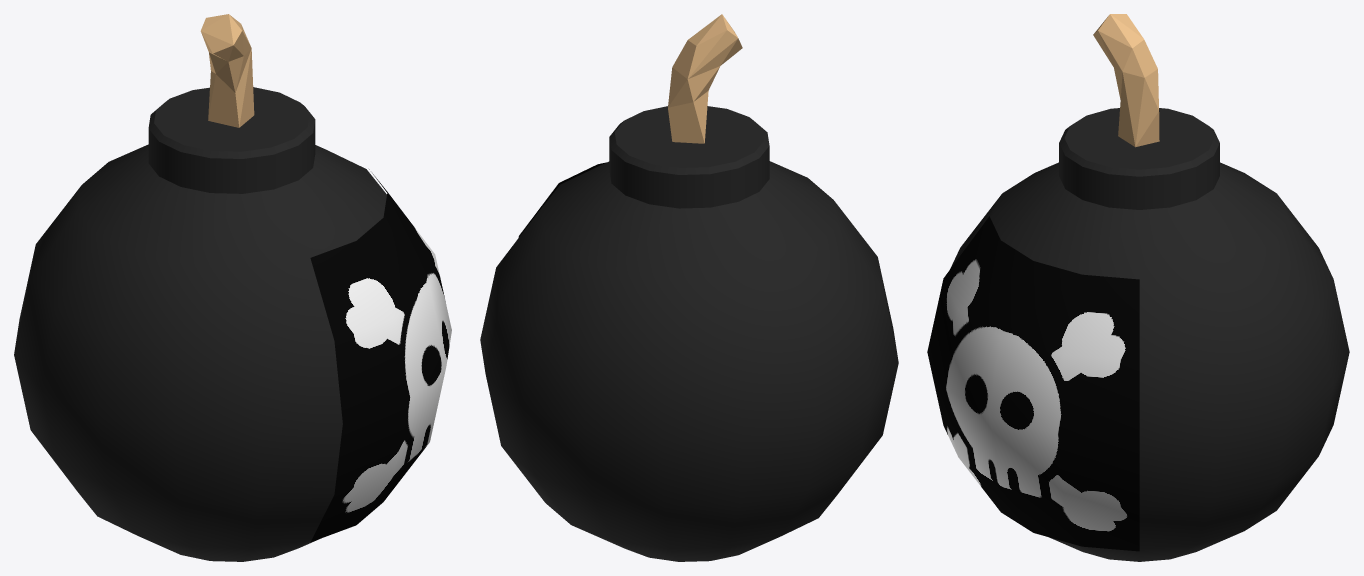
File: bomb_2.fbx
The picture shows the model from 3 angles, left to right: view 1: azimuth 30°, elevation 25°; view 2: azimuth 150°, elevation 25°; view 3: azimuth 270°, elevation 25°; orthographic projection. The views are drawn at different scales.
Parts seen in each view (by area): view 1: bomb_2; view 2: bomb_2; view 3: bomb_2.
Part boxes in pixels (bbox=[...]): bomb_2: bbox=[14, 14, 451, 561]; bomb_2: bbox=[480, 14, 898, 561]; bomb_2: bbox=[927, 14, 1349, 561].
Bounding box in the file's own units: 0.201 × 0.201 × 0.273.
